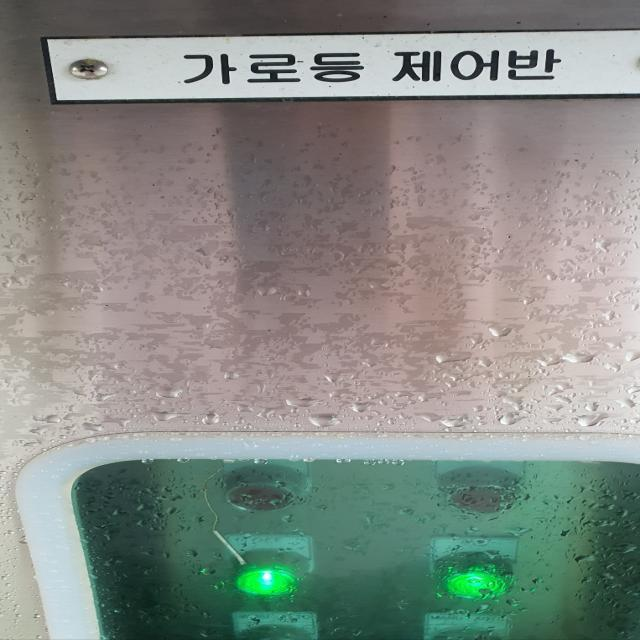raindrop: (132, 407, 198, 424), (423, 348, 476, 367), (300, 410, 346, 430), (144, 382, 182, 402), (404, 408, 450, 424), (578, 410, 612, 430), (496, 412, 536, 428), (487, 322, 522, 340), (280, 395, 322, 408), (568, 552, 602, 568), (440, 415, 480, 428), (564, 351, 596, 366), (192, 564, 224, 579), (98, 415, 134, 428), (538, 353, 566, 369), (94, 390, 126, 404), (608, 540, 638, 554), (26, 426, 57, 439), (36, 414, 68, 424), (592, 570, 620, 581), (128, 503, 156, 513), (78, 422, 100, 434)
